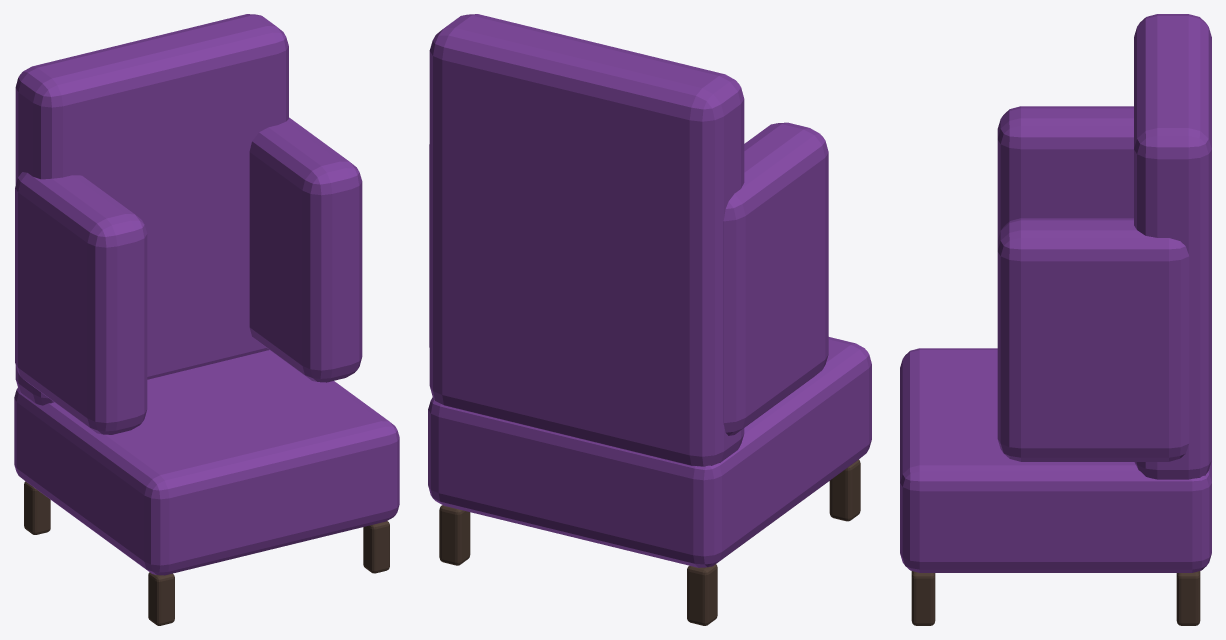
Rendered from throne_wing_chair.glb.
3 renders of one model, left to right at view 1: azimuth 30°, elevation 25°; view 2: azimuth 150°, elevation 25°; view 3: azimuth 270°, elevation 25°, orthographic. The views are drawn at different scales.
Parts seen in each view (by area): view 1: GD_throne_wing_chair__m0, GD_throne_wing_chair__m1; view 2: GD_throne_wing_chair__m0, GD_throne_wing_chair__m1; view 3: GD_throne_wing_chair__m0, GD_throne_wing_chair__m1.
Boxes of the visible parts, left/top/right/bottom form: GD_throne_wing_chair__m0: left=14, top=14, right=399, bottom=575; GD_throne_wing_chair__m1: left=24, top=481, right=389, bottom=625; GD_throne_wing_chair__m0: left=428, top=14, right=871, bottom=567; GD_throne_wing_chair__m1: left=439, top=459, right=860, bottom=625; GD_throne_wing_chair__m0: left=900, top=14, right=1211, bottom=572; GD_throne_wing_chair__m1: left=911, top=571, right=1200, bottom=625.
Size of the model in its own units: 0.86 by 1.4 by 0.8.
